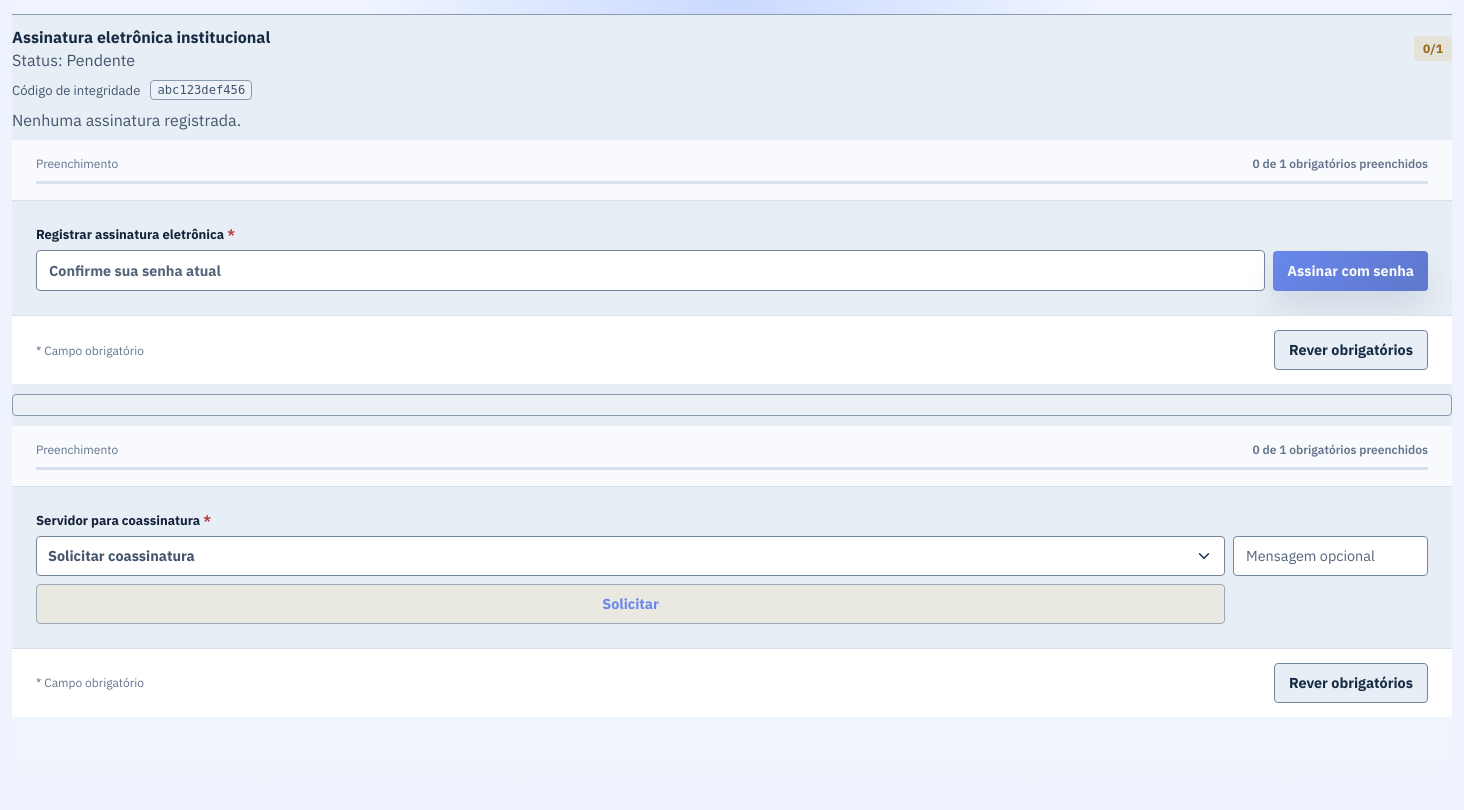
Test case: DocumentSignaturePanel › limpa o documento local quando o conteúdo assinado ficou obsoleto
Step 1. Type "senha-segura" into the password field labelled "Registrar assinatura eletrônica" → (651, 270), box left=36, top=250, right=1265, bottom=291
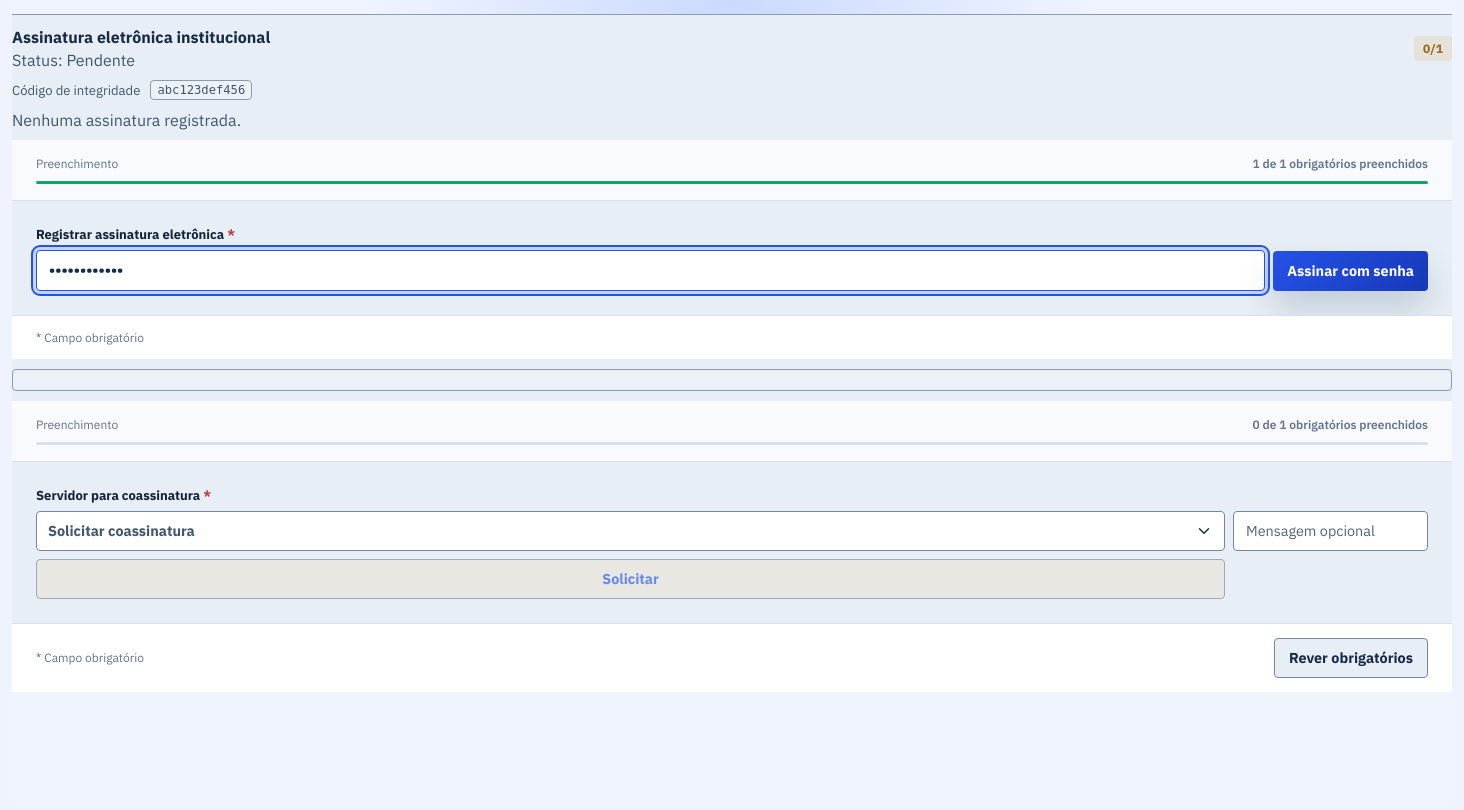
Step 2. Click the button "Assinar com senha" → (1351, 271), box left=1273, top=251, right=1428, bottom=291
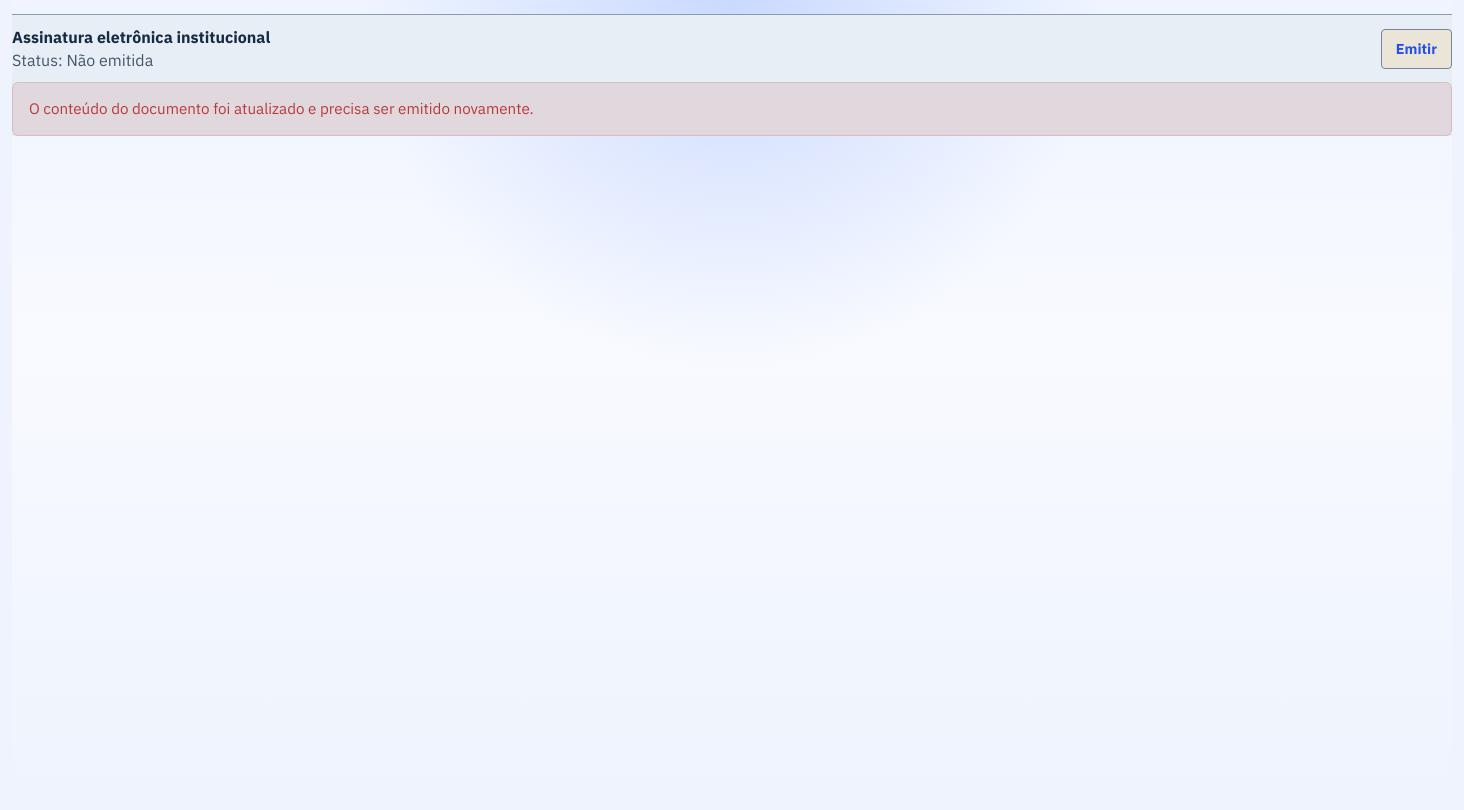
Expected: the text "Status: Não emitida" is shown, left=12, top=50, right=153, bottom=70
Expected: the button "Emitir" is shown, left=1381, top=28, right=1452, bottom=68
